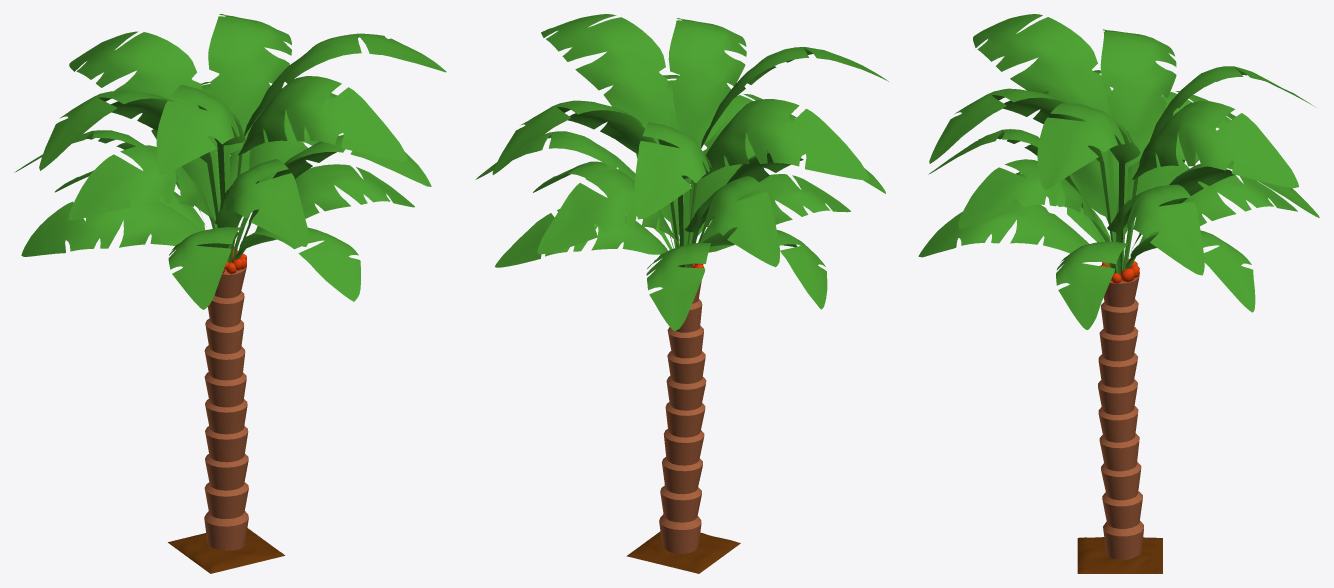
File: oil-palm-p4-bloom.glb
The picture shows the model from 3 angles, left to right: view 1: azimuth 30°, elevation 25°; view 2: azimuth 150°, elevation 25°; view 3: azimuth 270°, elevation 25°; orthographic projection. The views are drawn at different scales.
Visible parts, largest first — view 1: 4_nft_bloom; view 2: 4_nft_bloom; view 3: 4_nft_bloom.
Part boxes in pixels (x1,y1,x2,y2): 4_nft_bloom: (14, 14, 446, 573); 4_nft_bloom: (475, 14, 888, 573); 4_nft_bloom: (918, 14, 1319, 573).
Bounding box in the file's own units: 6.94 × 8.96 × 6.59.
